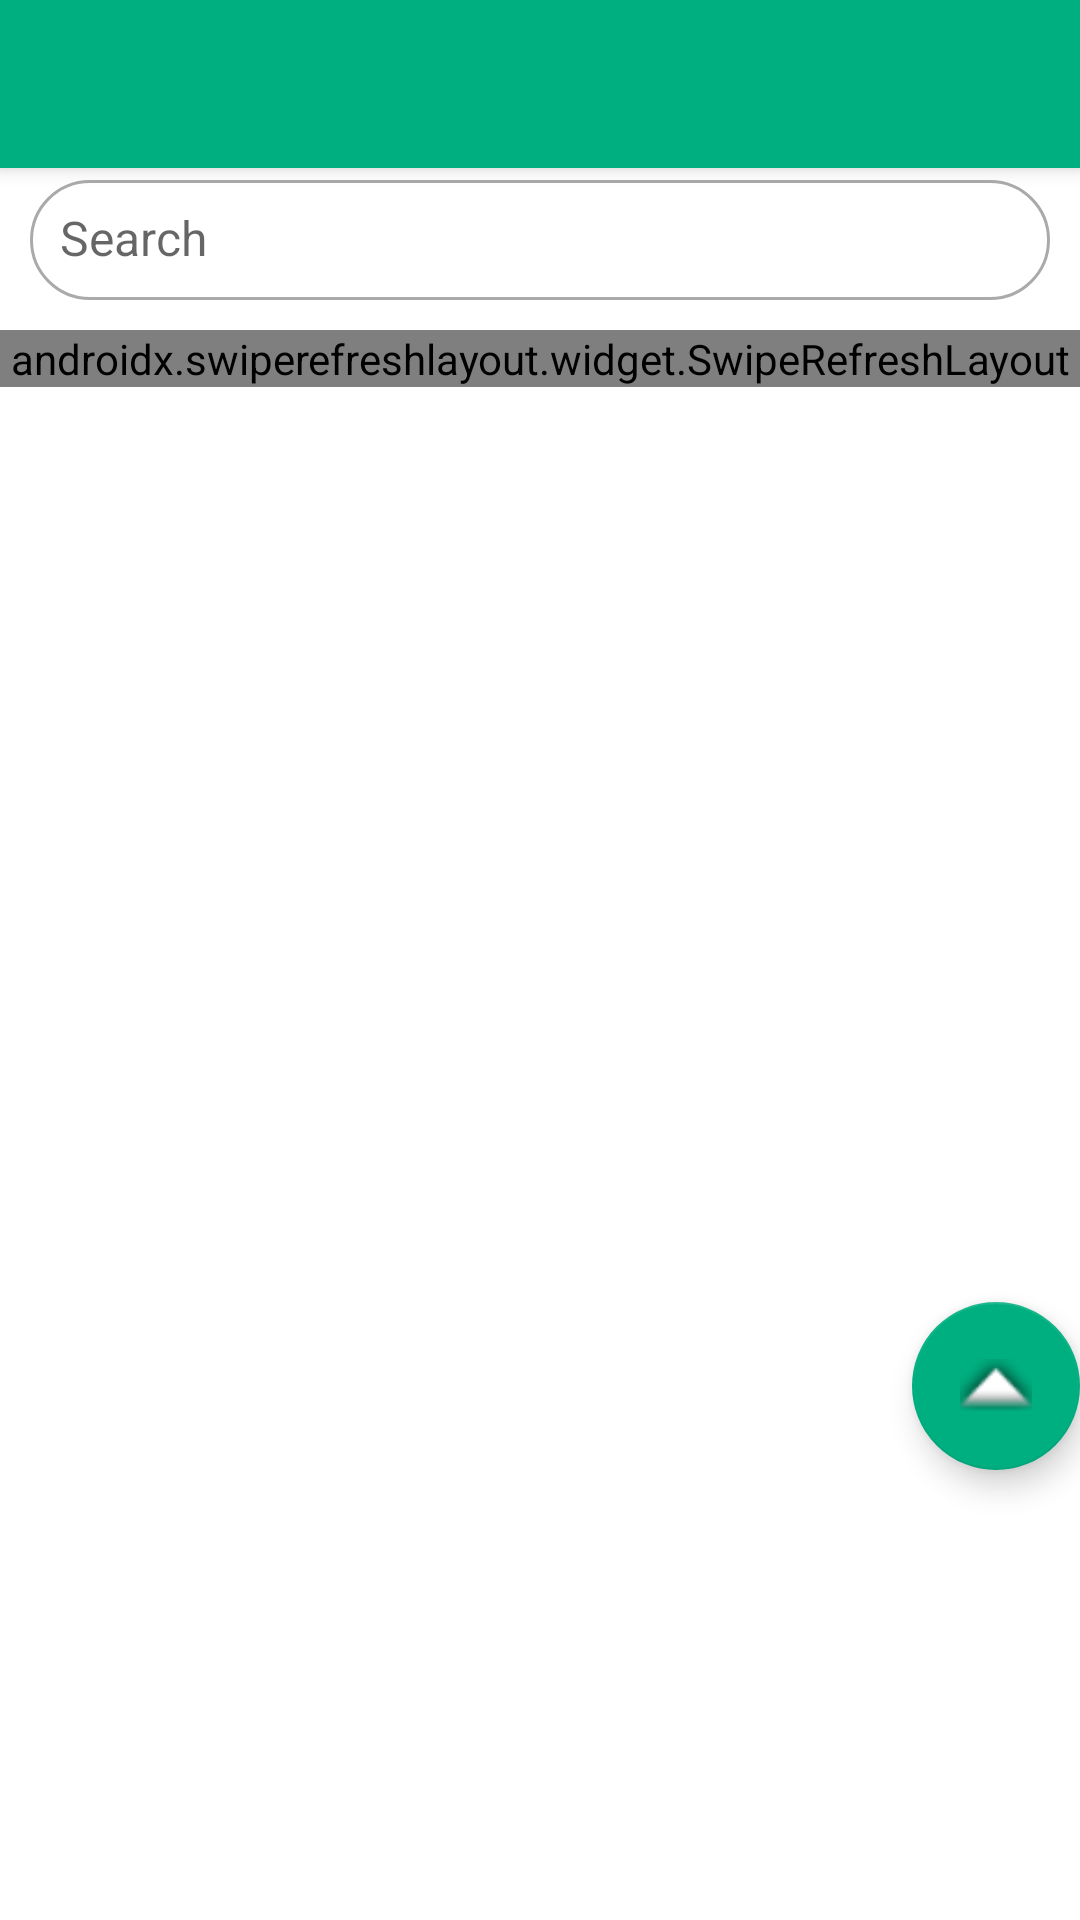

Icons on this 1080 x 1920 Android screen, each with its box as (x1, y1, x2, y2):
arrow up float: (912, 1302, 1080, 1470)
